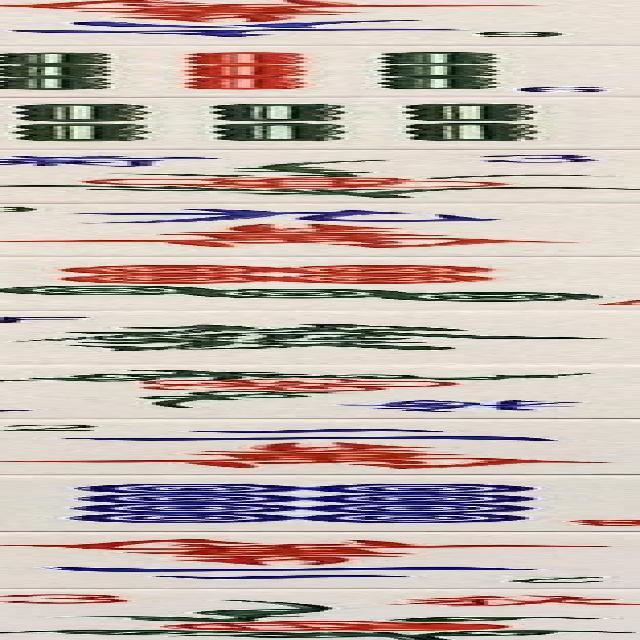bf1: (0, 364, 640, 417)
bf3: (0, 152, 640, 202)
bs3: (0, 589, 640, 640)
hdg: (0, 310, 640, 363)
sb6: (0, 98, 640, 150)
sb9: (0, 46, 640, 98)
sc2: (0, 420, 640, 474), (0, 534, 640, 586)
sc6: (0, 0, 640, 44)
sc9: (0, 202, 640, 255)
sd7: (0, 256, 640, 306)
sd8: (0, 474, 640, 532)
